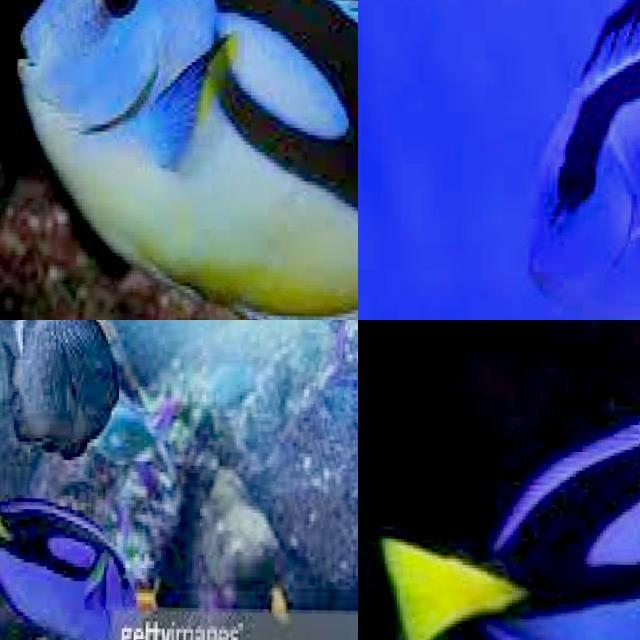BlueTang: (0, 0, 358, 320), (384, 423, 640, 640), (495, 0, 640, 320), (0, 500, 124, 639)
